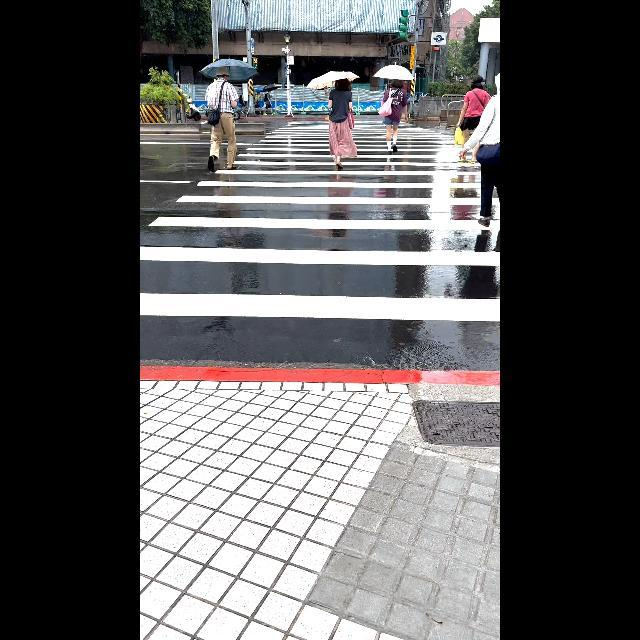sidewalk: (140, 115, 500, 378)
